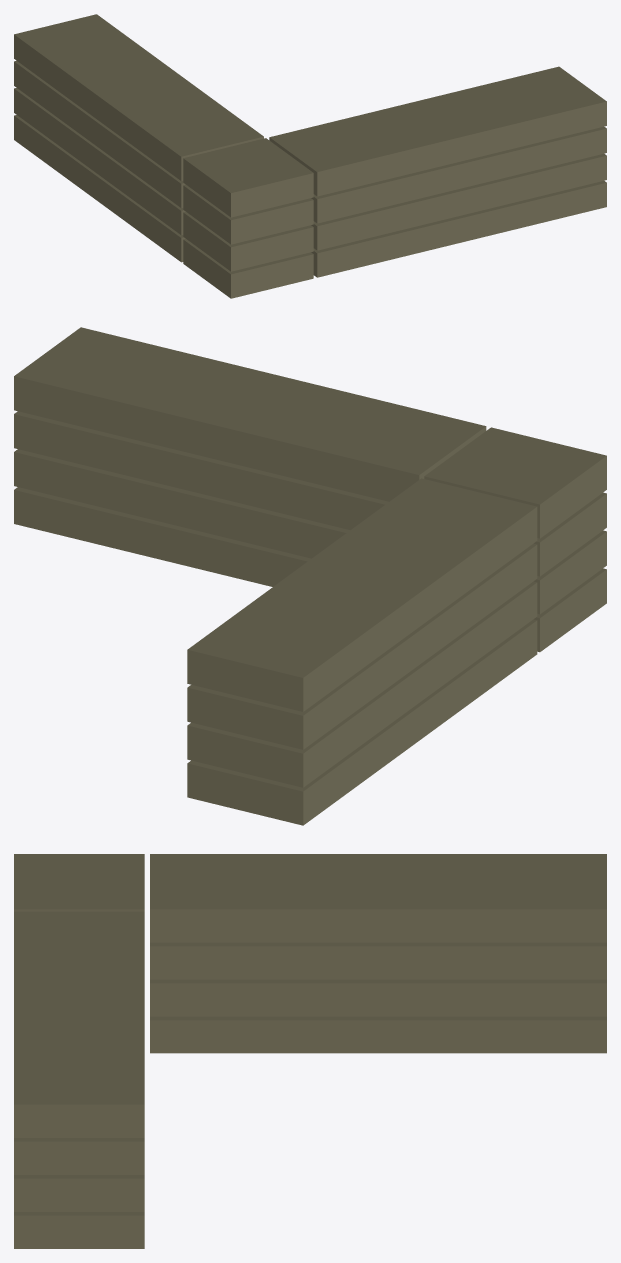
The model's file is SM_SacosEsquina_v0_Recto_e0_Sano_LOD1.fbx.
3 renders of one model, top to bottom at view 1: azimuth 30°, elevation 25°; view 2: azimuth 150°, elevation 25°; view 3: azimuth 270°, elevation 25°, orthographic. The views are drawn at different scales.
Parts seen in each view (by area): view 1: SM_sacos_piezas_v0_LOD1; view 2: SM_sacos_piezas_v0_LOD1; view 3: SM_sacos_piezas_v0_LOD1.
Part boxes in pixels (bbox=[...]): SM_sacos_piezas_v0_LOD1: bbox=[14, 14, 606, 298]; SM_sacos_piezas_v0_LOD1: bbox=[14, 327, 606, 825]; SM_sacos_piezas_v0_LOD1: bbox=[14, 854, 606, 1248].
Size of the model in its own units: 4.36 by 1.17 by 4.36.
